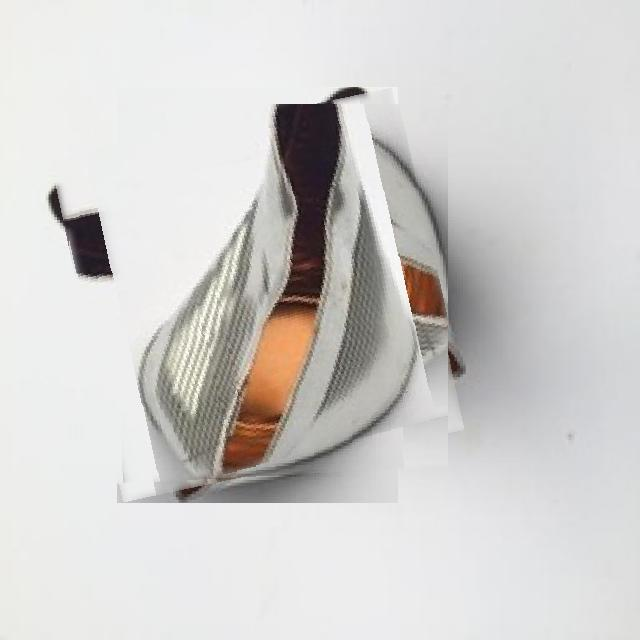recyclable: (67, 104, 448, 486)
